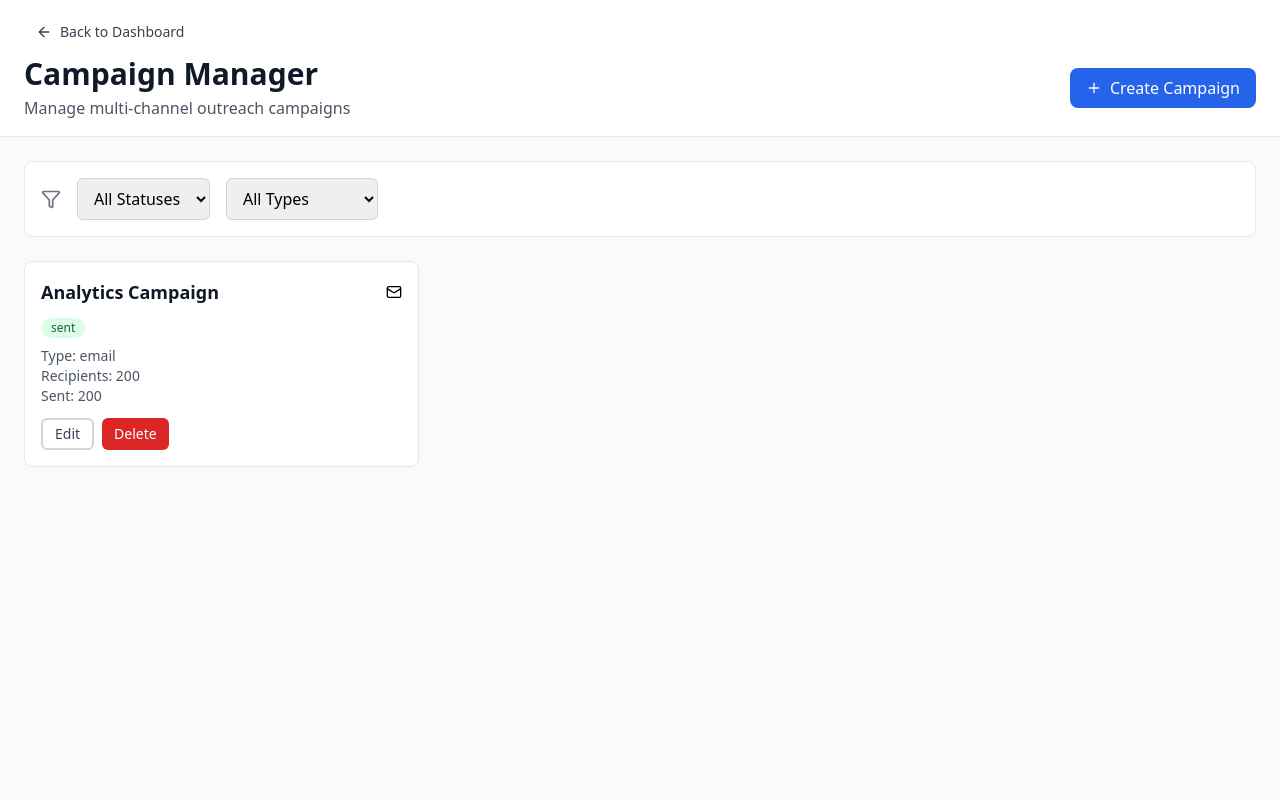
CampaignManager › shows analytics after selecting a campaign card
Click the heading "Analytics Campaign": [130, 292] box [41,278,219,306]
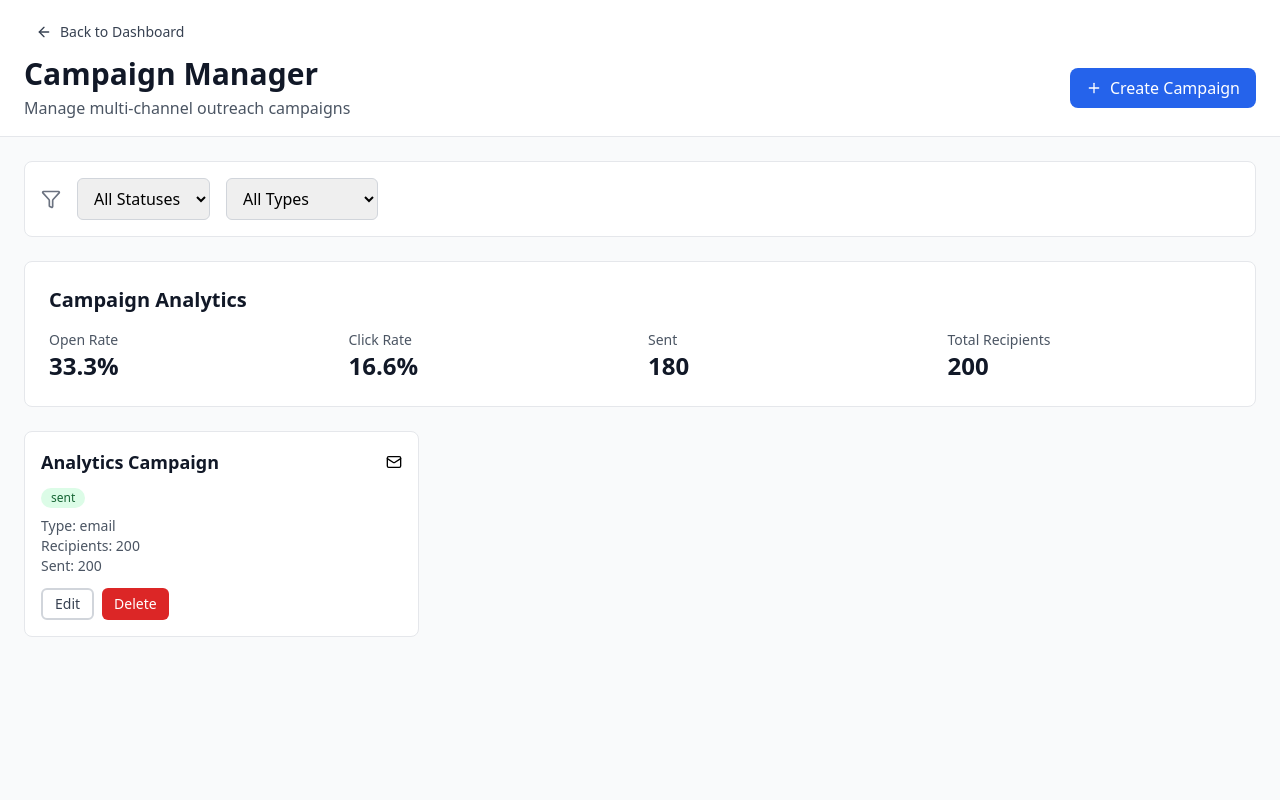
Expected: the heading "Campaign Analytics" is shown, [49,286,247,313]
Now the text "33.3%" is shown, box [49,349,119,382]
